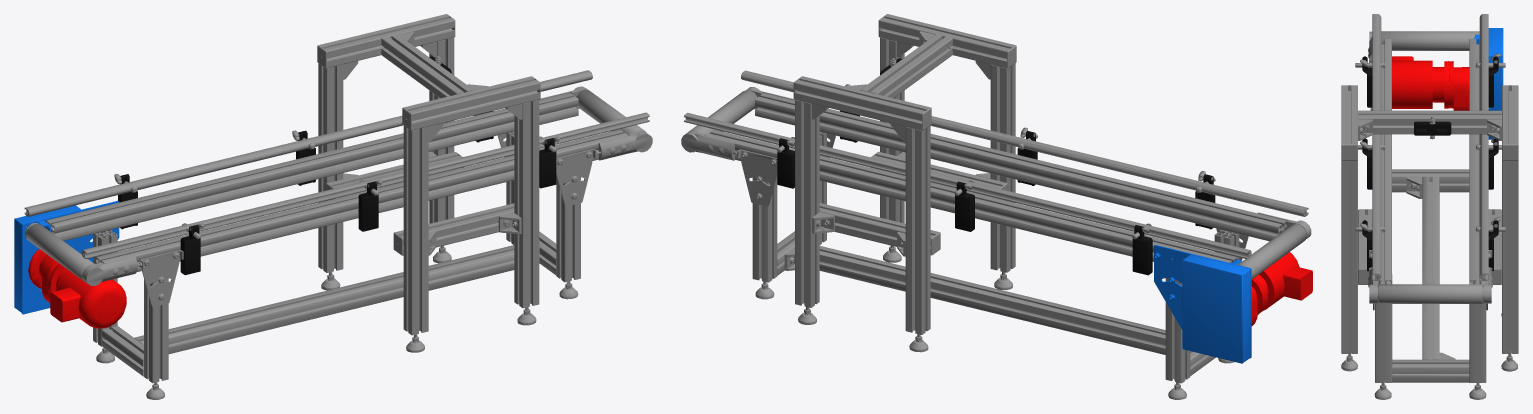
File: convey6.FBX
3 renders of one model, left to right at view 1: azimuth 30°, elevation 25°; view 2: azimuth 150°, elevation 25°; view 3: azimuth 270°, elevation 25°, orthographic. The views are drawn at different scales.
Parts seen in each view (by area): view 1: Base_004; view 2: Base_004; view 3: Base_004.
Boxes of the visible parts, x1,y1,x2,y2 form: Base_004: (14,14,652,399); Base_004: (681,14,1312,399); Base_004: (1341,14,1518,399).
Bounding box in the file's own units: 333 × 135 × 93.51.
